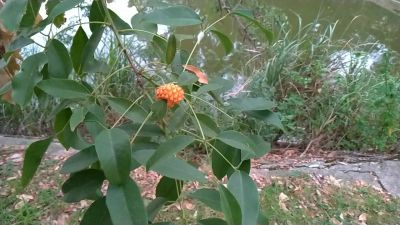eggs: (156, 78, 185, 105)
